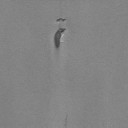slag inclusion: (54, 28, 66, 49), (56, 18, 66, 22)
